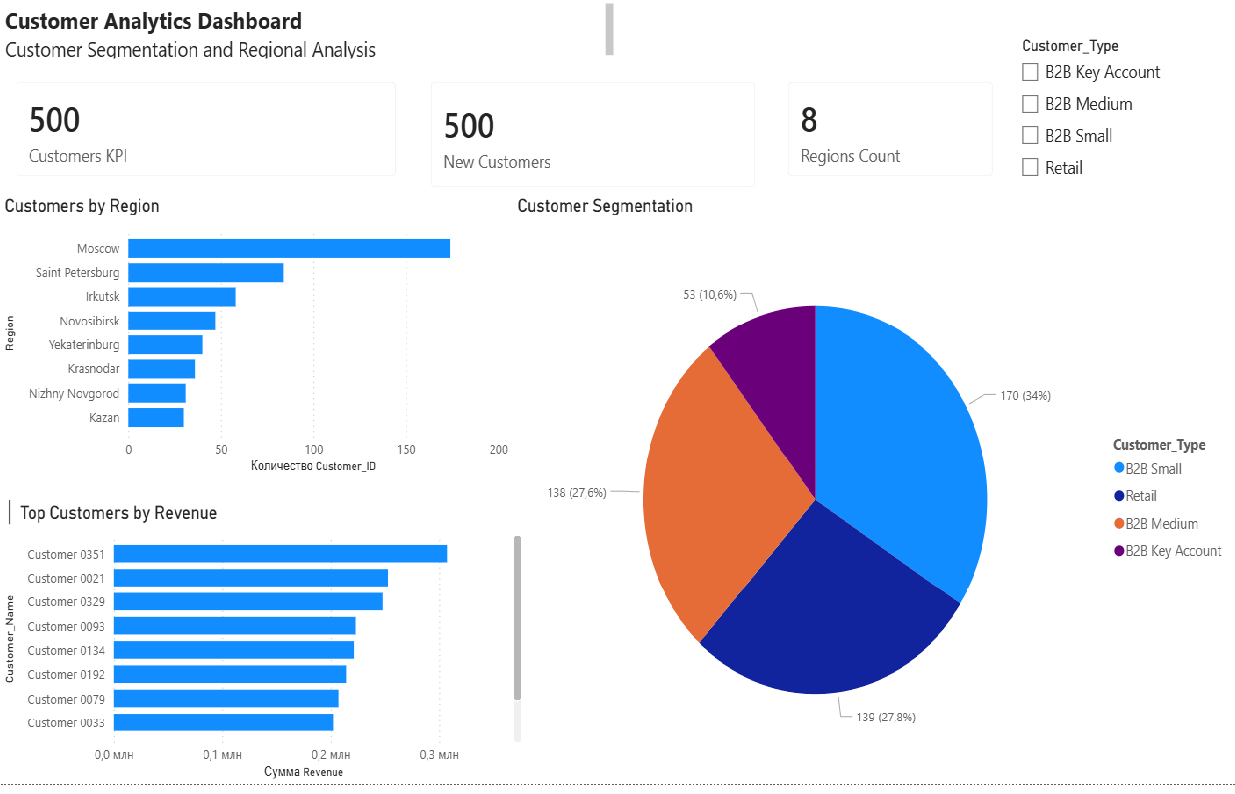

The dashboard page shown, as its layout file describes it:
{"tool":"powerbi","page":{"name":"Customer Analytics","canvas":[1280,720],"ordinal":1},"visuals":[{"type":"cardVisual","fields":{"Data":["Sales.Customers KPI"]},"box":[0,60,427.5,120],"z":0},{"type":"cardVisual","fields":{"Data":["Calendar.New Customers"]},"box":[428.8,60,370,130],"z":1000},{"type":"cardVisual","fields":{"Data":["Calendar.Regions Count"]},"box":[798.8,60,246.2,120],"z":2000},{"type":"barChart","title":"Customers by Region","fields":{"Category":["Sales.Region"],"Y":["Count(Sales.Customer_ID)"]},"box":[0,180,531.2,260],"z":3000},{"type":"pieChart","title":"Customer Segmentation","fields":{"Category":["Customers.Customer_Type"],"Y":["Count(Customers.Customer_ID)"]},"box":[531.2,180,748.8,540],"z":4000},{"type":"barChart","title":"│ Top Customers by Revenue","fields":{"Category":["Customers.Customer_Name"],"Y":["Sum(Sales.Revenue)"]},"box":[0,460,545,260],"z":5000},{"type":"textbox","box":[0,0,640,60],"z":6000},{"type":"slicer","fields":{"Values":["Customers.Customer_Type"]},"box":[1045,30,235,150],"z":7000}]}

Visuals, with their boxes on the page's 1280x720 design canvas (x1, y1, x2, y2). These are canvas units, not pixel positions in the 1235x794 screenshot, which may show the page scaled, cropped or inside an application window:
cardVisual - Sales.Customers KPI: region(0, 60, 428, 180)
cardVisual - Calendar.New Customers: region(429, 60, 799, 190)
cardVisual - Calendar.Regions Count: region(799, 60, 1045, 180)
"Customers by Region" barChart: region(0, 180, 531, 440)
"Customer Segmentation" pieChart: region(531, 180, 1280, 720)
"│ Top Customers by Revenue" barChart: region(0, 460, 545, 720)
textbox: region(0, 0, 640, 60)
slicer - Customers.Customer_Type: region(1045, 30, 1280, 180)
